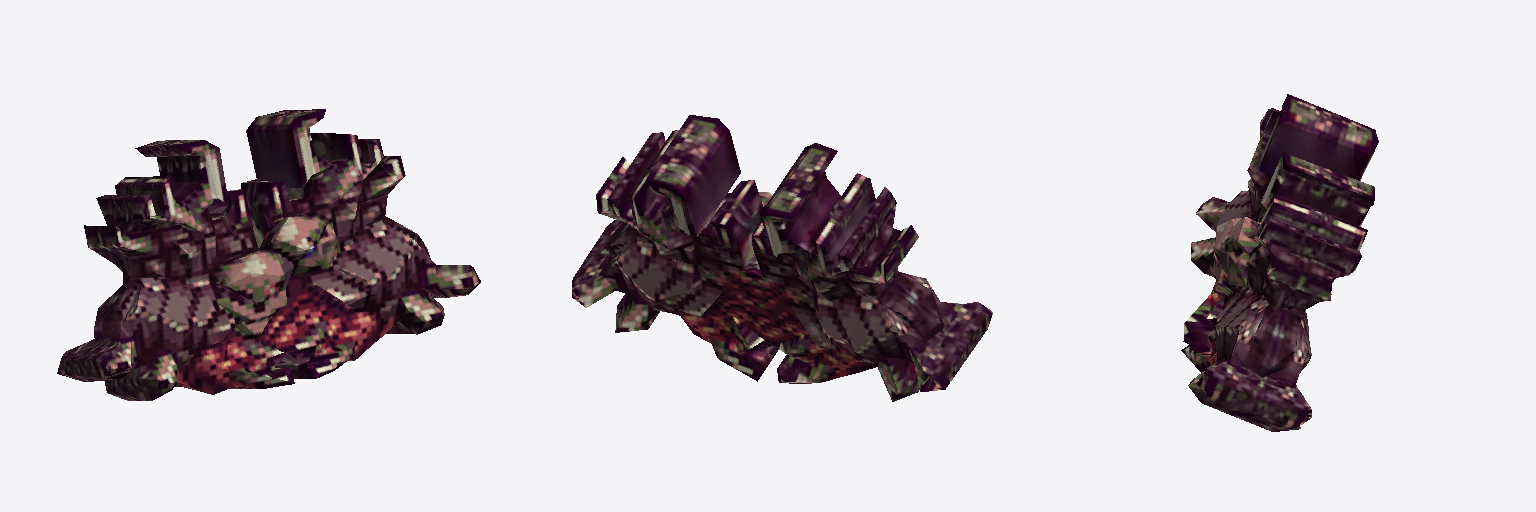
The picture shows the model from 3 angles: view 1: azimuth 30°, elevation 25°; view 2: azimuth 150°, elevation 25°; view 3: azimuth 270°, elevation 25°; orthographic projection.
Size of the model in its own units: 0.7442 by 0.477 by 0.3375.
Materials: 1 (1 with a texture image).